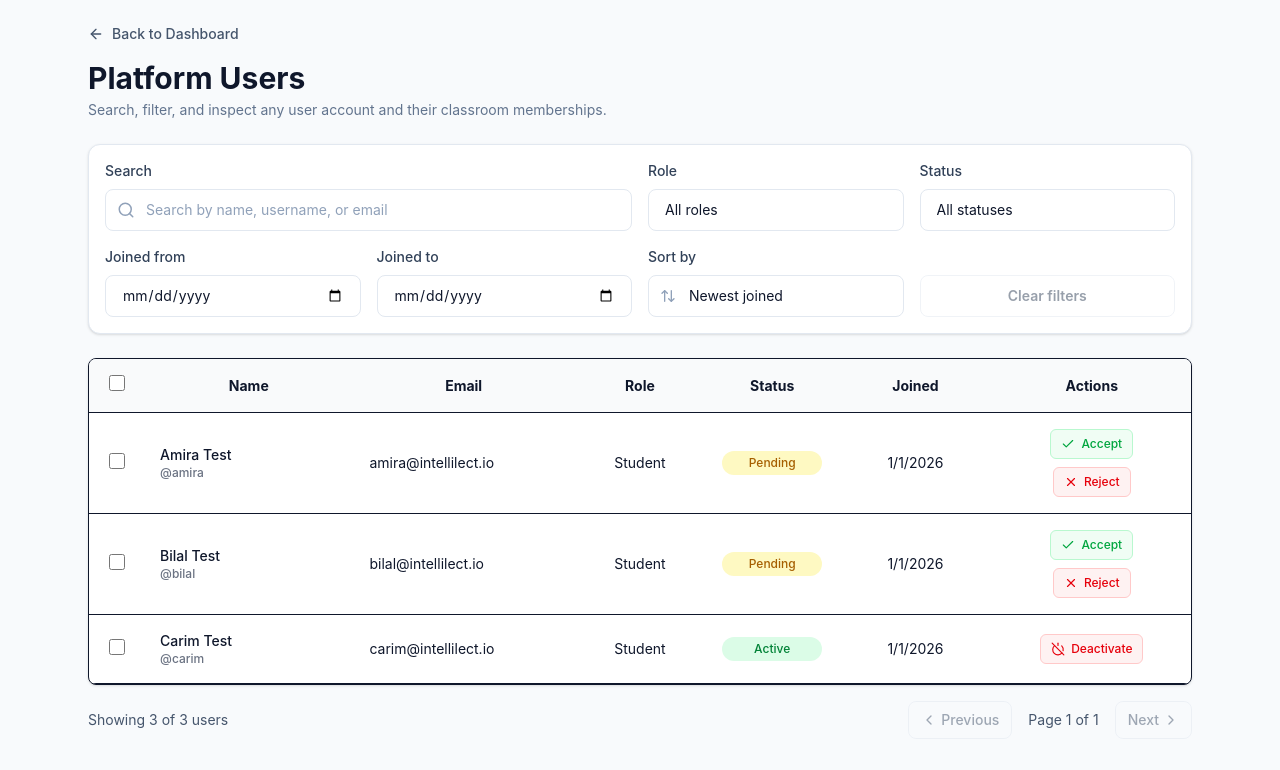
Test: UsersDirectoryPage bulk status changes › offers only the actions that fit the selection, each with its own count
This screenshot has width=1280, height=770.
Expected: the text "Amira Test" is shown, [160,446,232,463]
Click the checkbox named "Select every changeable account". click: click(116, 383)
box: [108,375,124,391]
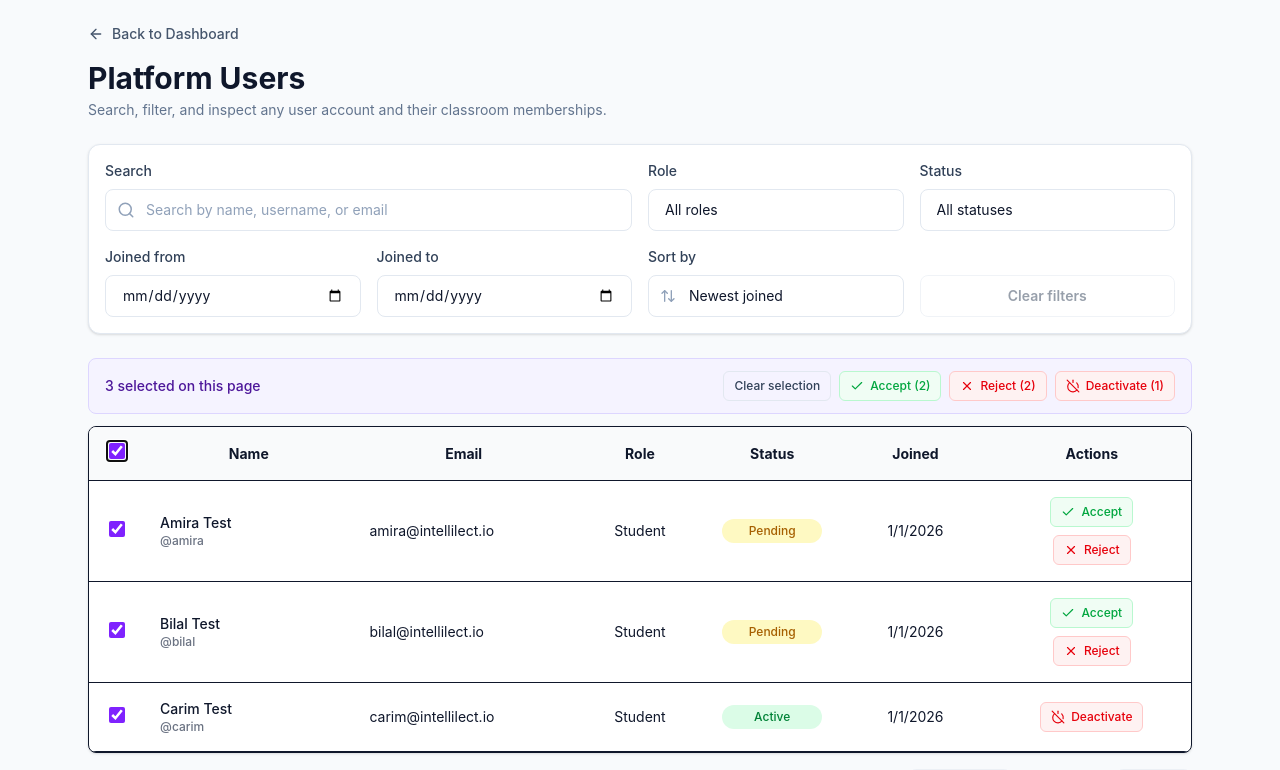
Result: the button "Accept (2)" is shown at [839,371,942,401]
Result: the button "Reject (2)" is shown at [950,371,1047,401]
Result: the button "Deactivate (1)" is shown at [1055,371,1175,401]
